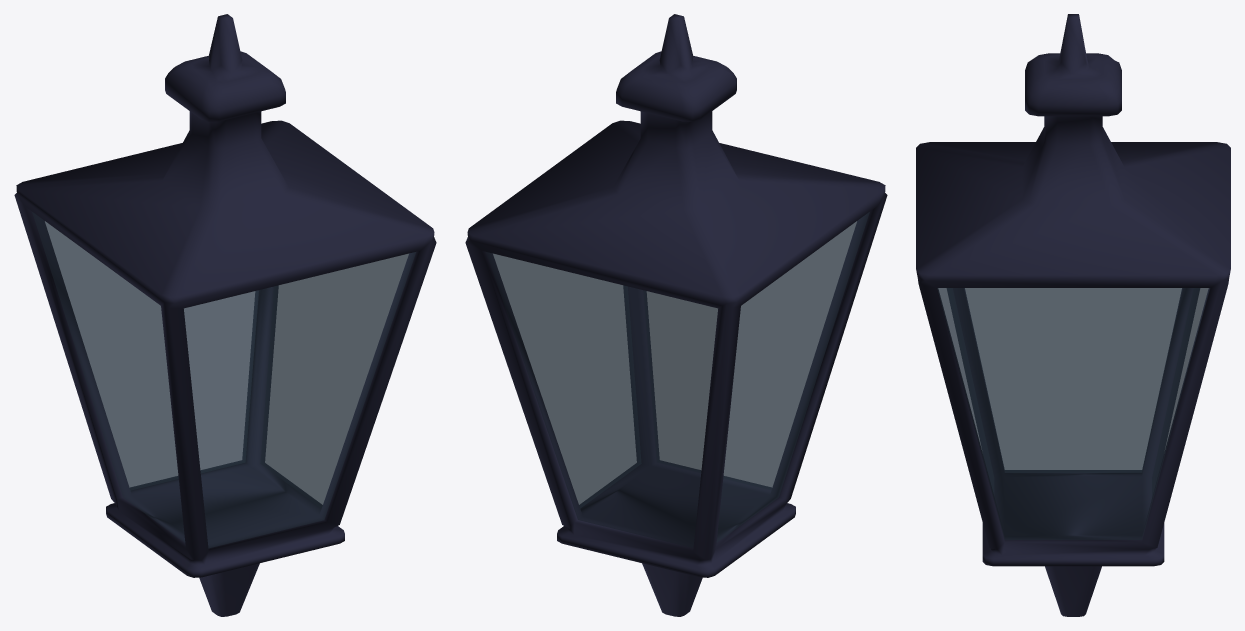
Rendered from lantern.glb.
The picture shows the model from 3 angles, left to right: view 1: azimuth 30°, elevation 25°; view 2: azimuth 150°, elevation 25°; view 3: azimuth 270°, elevation 25°; orthographic projection.
Visible parts, largest first — view 1: Cube; view 2: Cube; view 3: Cube.
Boxes of the visible parts, x1,y1,x2,y2 form: Cube: [14, 14, 436, 616]; Cube: [465, 14, 887, 616]; Cube: [916, 14, 1230, 616].
Bounding box in the file's own units: 3.84 × 8.02 × 3.84.
